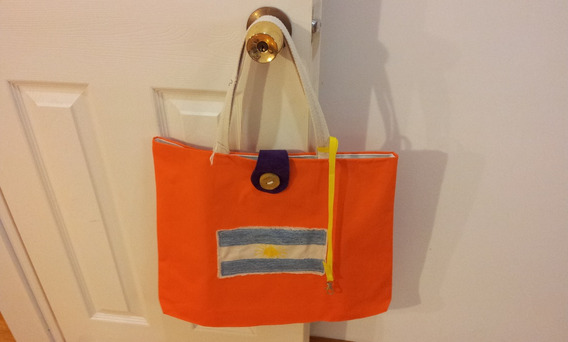cartera: (151, 15, 398, 329)
